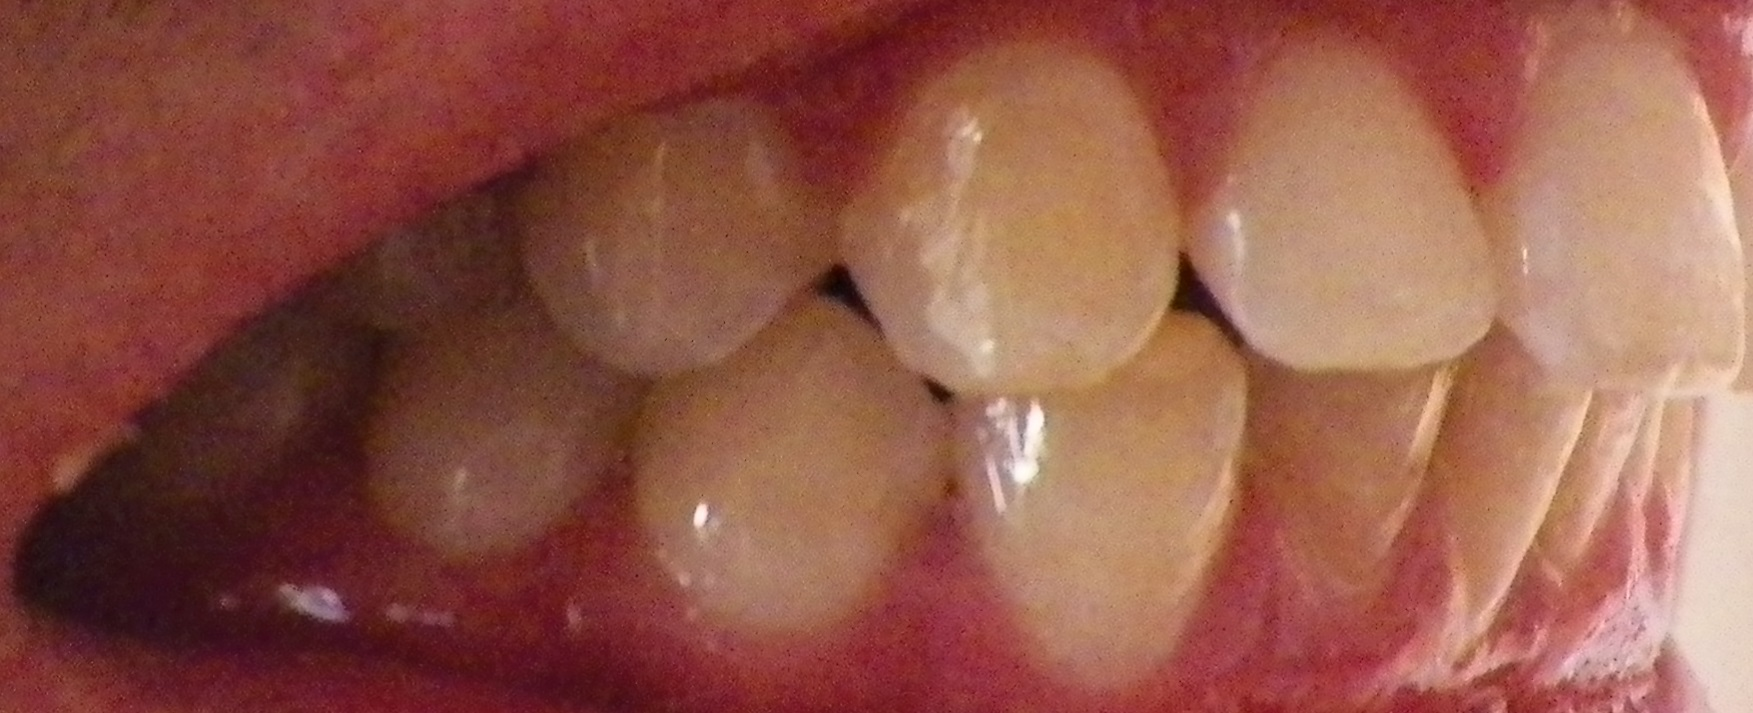boca: (42, 45, 1738, 671)
